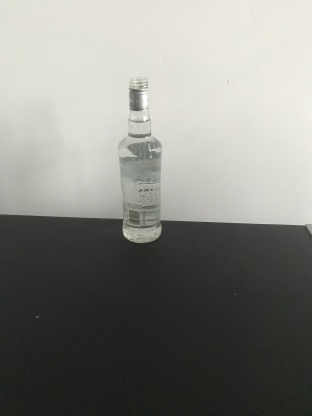nakretka: (126, 76, 151, 112)
